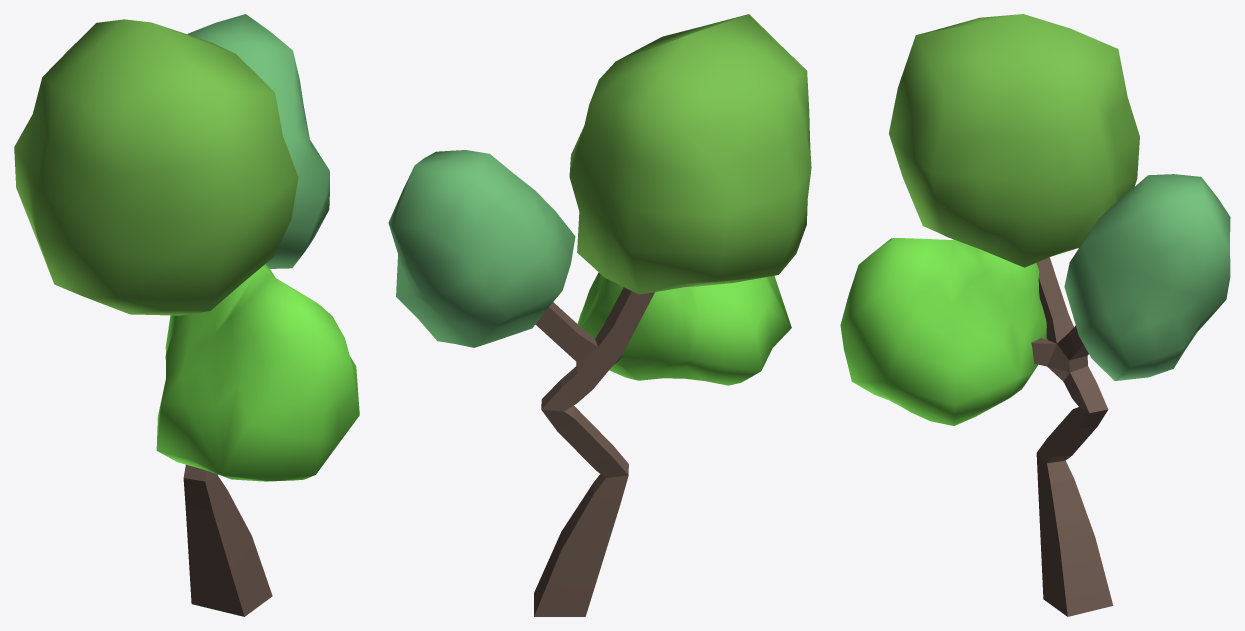
File: klen 3 spring.fbx
The picture shows the model from 3 angles, left to right: view 1: azimuth 30°, elevation 25°; view 2: azimuth 150°, elevation 25°; view 3: azimuth 270°, elevation 25°; orthographic projection. The views are drawn at different scales.
Visible parts, largest first — view 1: Cube; view 2: Cube; view 3: Cube.
Boxes of the visible parts, x1,y1,x2,y2 form: Cube: (14, 14, 359, 616); Cube: (388, 14, 811, 616); Cube: (840, 14, 1230, 616).
Bounding box in the file's own units: 1013 × 1713 × 1119.
